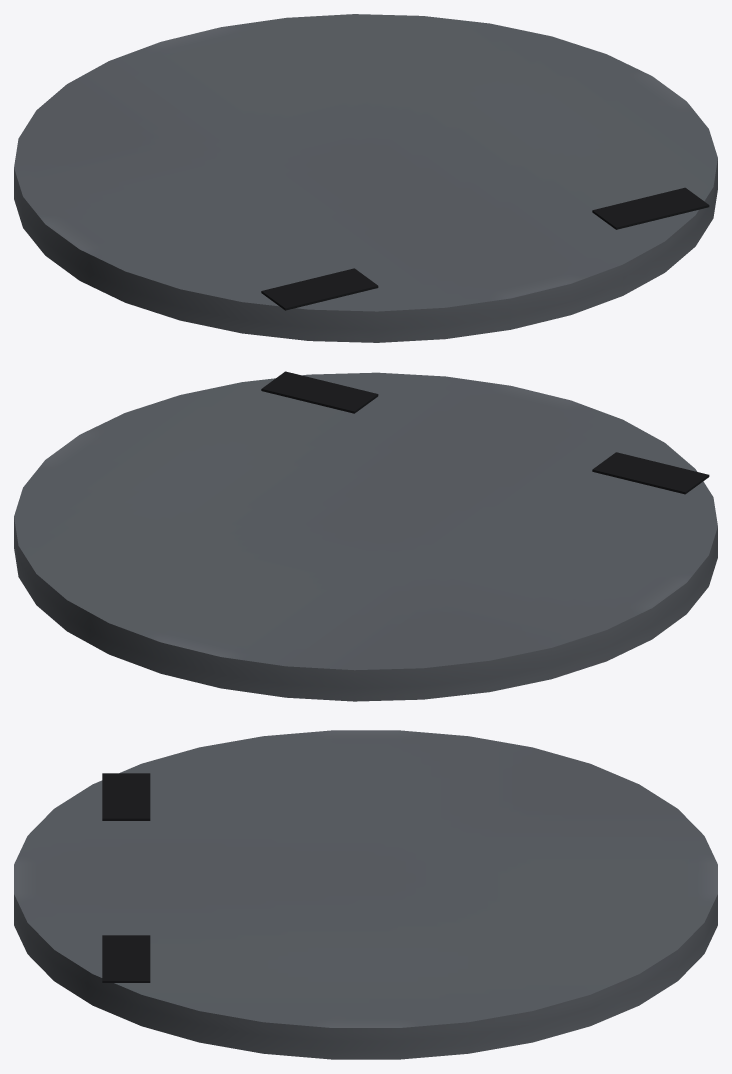
The model's file is lid_closed.obj.
The picture shows the model from 3 angles, top to bottom: view 1: azimuth 30°, elevation 25°; view 2: azimuth 150°, elevation 25°; view 3: azimuth 270°, elevation 25°; orthographic projection.
Parts seen in each view (by area): view 1: pump_manhole_cover__lid_closed__lid, pump_manhole_cover__lid_closed__pry_slots; view 2: pump_manhole_cover__lid_closed__lid, pump_manhole_cover__lid_closed__pry_slots; view 3: pump_manhole_cover__lid_closed__lid, pump_manhole_cover__lid_closed__pry_slots.
Boxes of the visible parts, x1,y1,x2,y2 form: pump_manhole_cover__lid_closed__lid: (14, 14, 717, 342); pump_manhole_cover__lid_closed__pry_slots: (261, 187, 709, 310); pump_manhole_cover__lid_closed__lid: (14, 372, 717, 701); pump_manhole_cover__lid_closed__pry_slots: (261, 371, 709, 494); pump_manhole_cover__lid_closed__lid: (14, 730, 717, 1059); pump_manhole_cover__lid_closed__pry_slots: (102, 773, 150, 982).
Bounding box in the file's own units: 0.7339 × 0.0388 × 0.7339.
